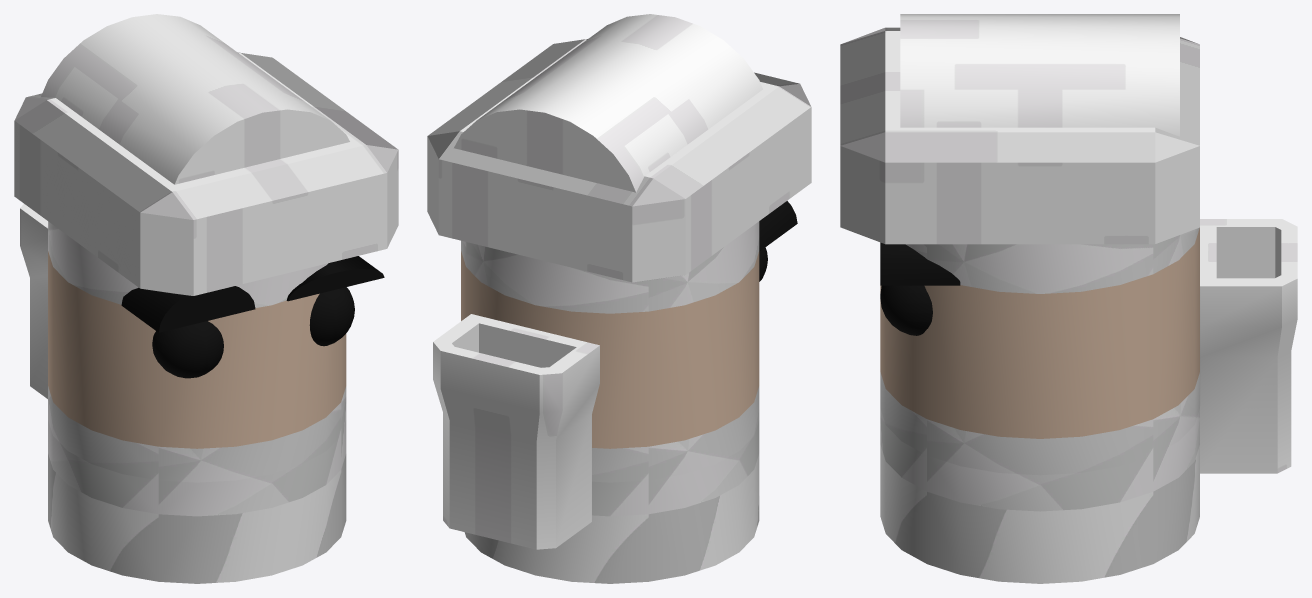
File: Character3.obj
3 renders of one model, left to right at view 1: azimuth 30°, elevation 25°; view 2: azimuth 150°, elevation 25°; view 3: azimuth 270°, elevation 25°, orthographic. The views are drawn at different scales.
Bounding box in the file's own units: 0.8 × 1.35 × 1.14.
Materials: 6 (4 with a texture image).
